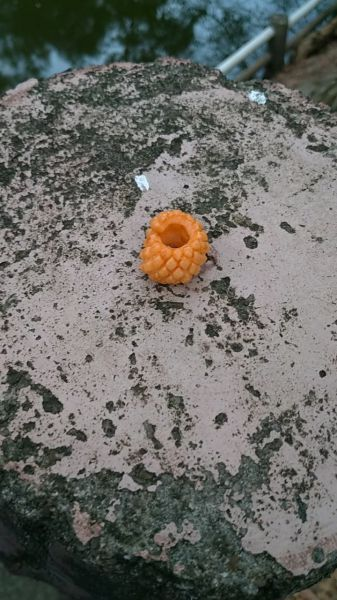eggs: (135, 205, 210, 289)
